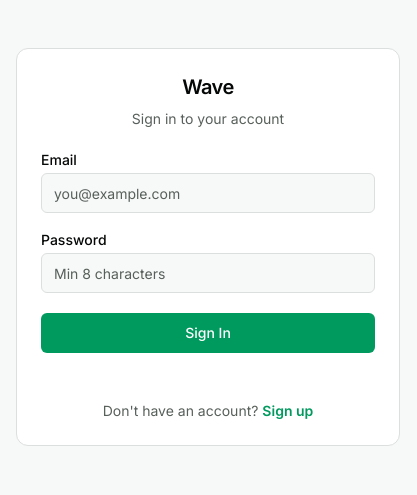
Test: AuthPage › displays error on sign-in failure
Type "test@example.com" into the field labelled "Email".
click(208, 193); type("test@example.com")  # box [41, 173, 375, 213]
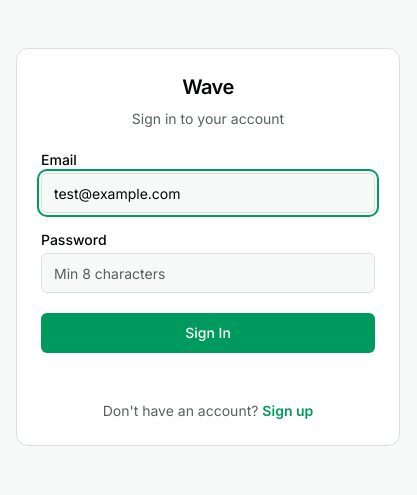
Type "wrong" into the password field labelled "Password".
click(208, 273); type("wrong")  # box [41, 253, 375, 293]
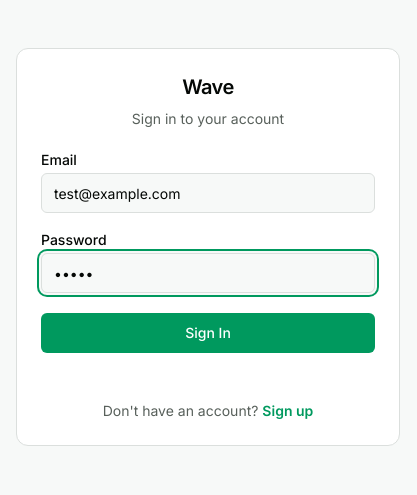
Click the button "Sign In".
click(208, 333)  # box [41, 313, 375, 353]
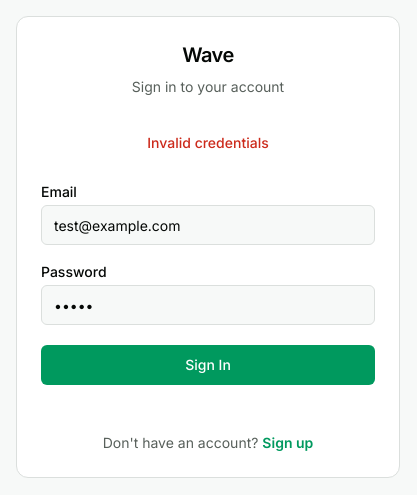
Expected: the text "Invalid credentials" is shown, [147, 134, 269, 151]
